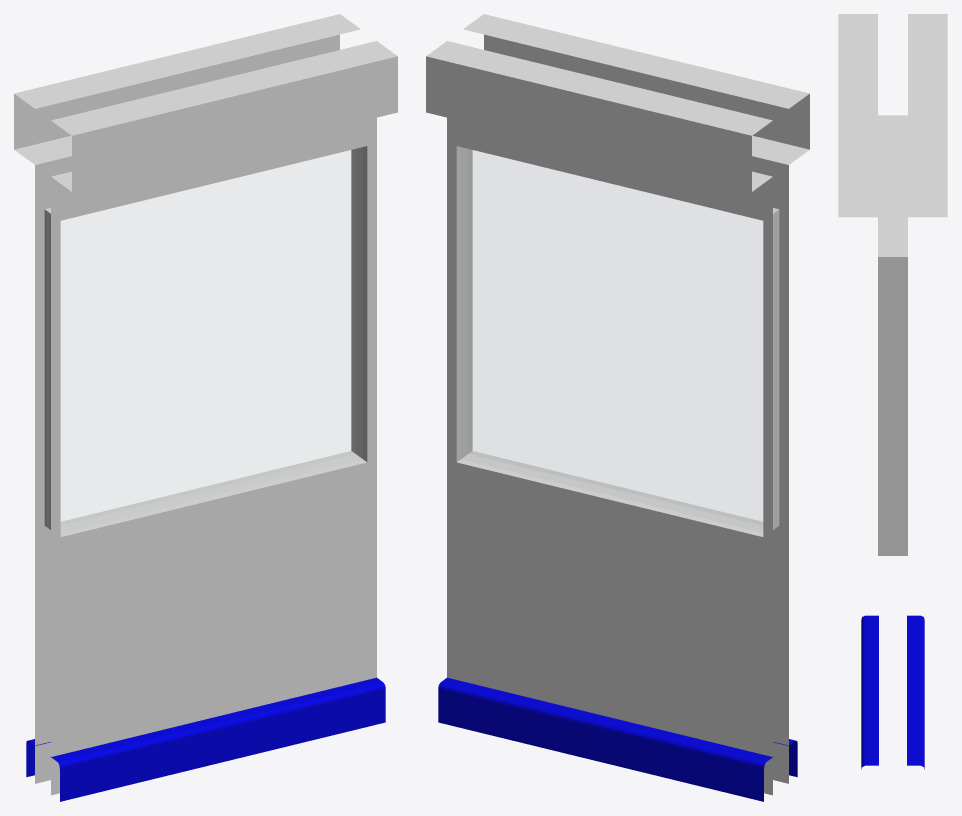
File: SecuirtyWall.fbx
3 renders of one model, left to right at view 1: azimuth 30°, elevation 25°; view 2: azimuth 150°, elevation 25°; view 3: azimuth 270°, elevation 25°, orthographic. The views are drawn at different scales.
Visible parts, largest first — view 1: Wall, Glass, Trim; view 2: Wall, Glass, Trim; view 3: Wall, Trim.
Boxes of the visible parts, x1,y1,x2,y2 form: Wall: (14,14,397,795); Glass: (61,150,354,524); Trim: (26,677,385,801); Wall: (426,14,809,795); Glass: (469,150,762,524); Trim: (438,677,797,801); Wall: (838,14,947,555); Trim: (861,615,924,769).
Size of the model in its own units: 6 by 11.87 by 1.84.
